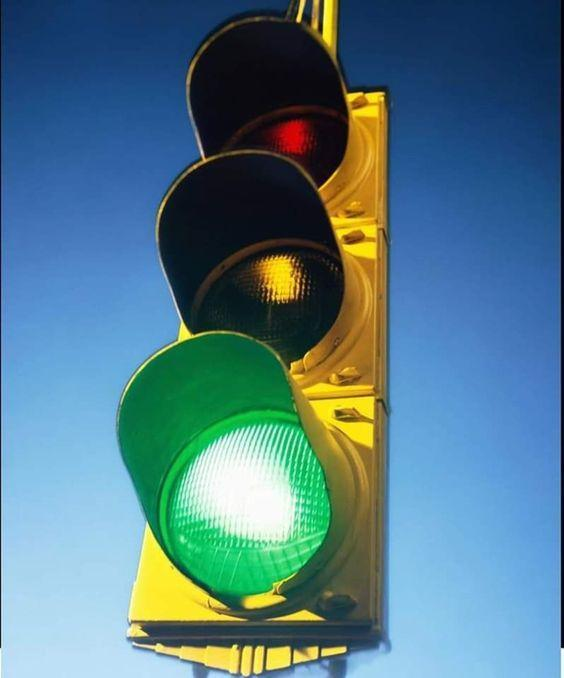green: (50, 10, 458, 633)
